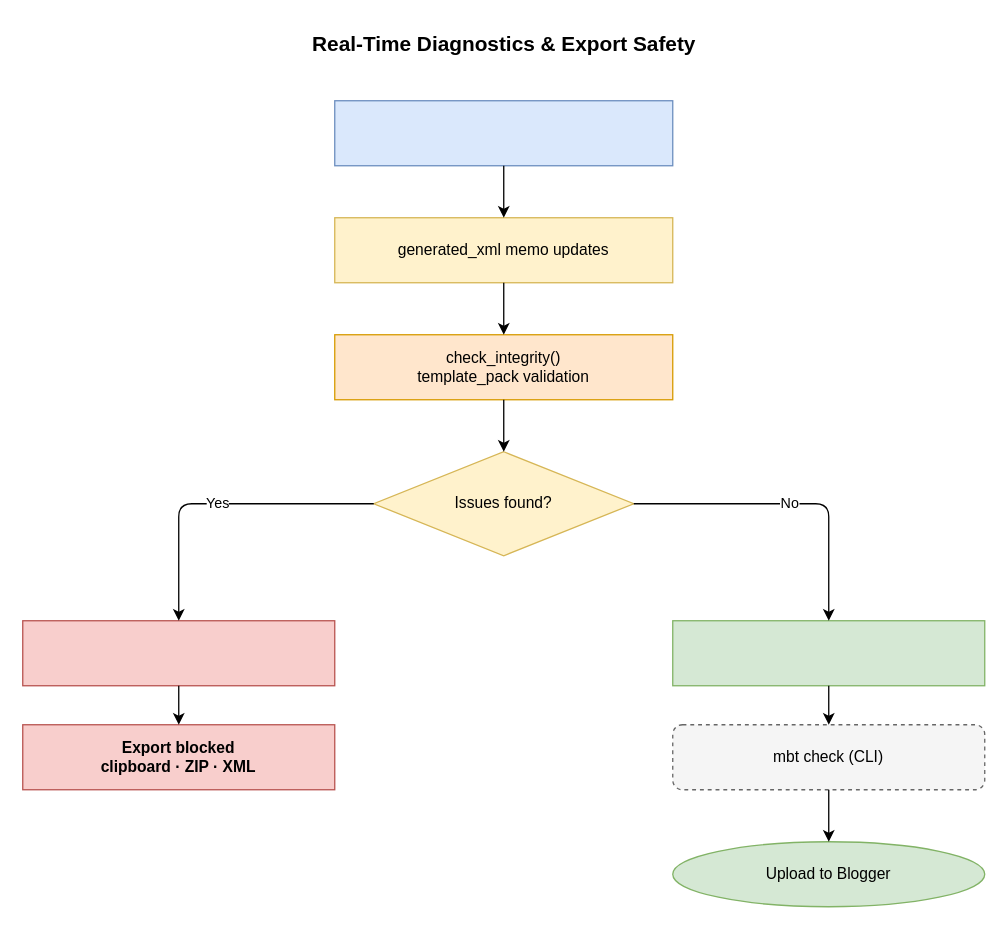
This 1007x929 diagram has some shape labels left out. The shapes that lost their labels are listed below. From the top down, each one's centre as x and y in pixels, then its label:
At pixel 503 132: "User edits theme (docks · ThemeSignals)".
At pixel 178 652: "DiagnosticsDock shows errors + warnings".
At pixel 828 652: "Safe export XML · ZIP · clipboard".
